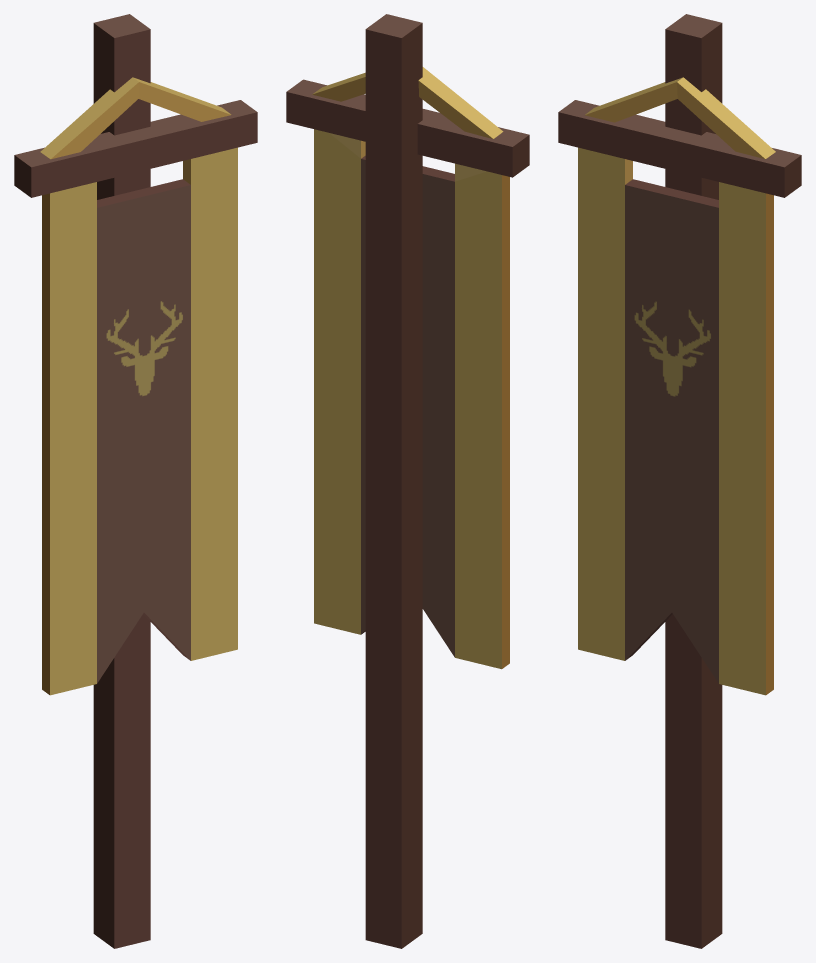
Rendered from Flag_04.gltf.
3 views of the same model, side by side, from view 1: azimuth 30°, elevation 25°; view 2: azimuth 150°, elevation 25°; view 3: azimuth 330°, elevation 25° (orthographic).
Parts seen in each view (by area): view 1: SF_Prop_Flag_04; view 2: SF_Prop_Flag_04; view 3: SF_Prop_Flag_04.
Part boxes in pixels (box(x1,y1,x2,y2)): SF_Prop_Flag_04: box(14, 14, 257, 948); SF_Prop_Flag_04: box(286, 14, 529, 948); SF_Prop_Flag_04: box(558, 14, 801, 948).
Size of the model in its own units: 0.0142 by 0.0548 by 0.00358.
1 material, 1 textured.
